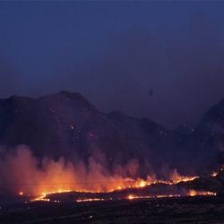fire: (21, 173, 219, 207)
